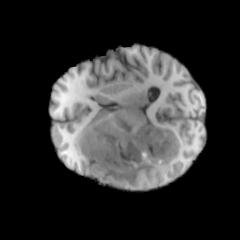glioma: (74, 114, 184, 188)
